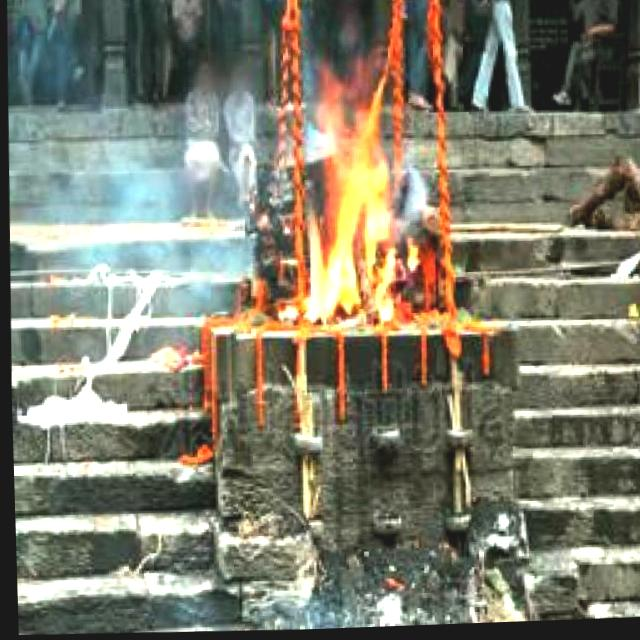Fire: (278, 56, 407, 341)
